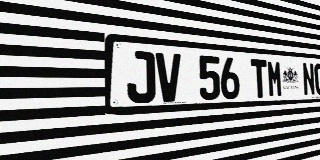5: (199, 55, 221, 100)
6: (220, 57, 240, 100)
C: (314, 63, 320, 95)
J: (126, 50, 156, 104)
M: (267, 60, 283, 97)
N: (302, 62, 315, 96)
T: (251, 59, 268, 98)
V: (156, 52, 182, 102)
